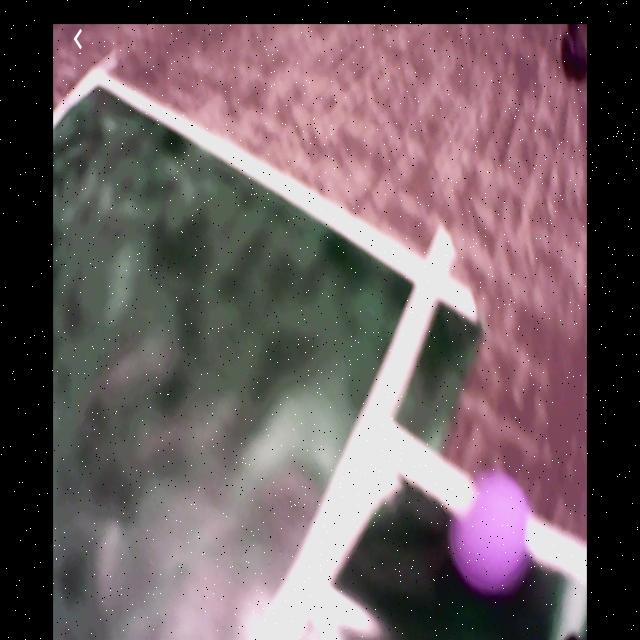ball: (451, 472, 534, 591)
